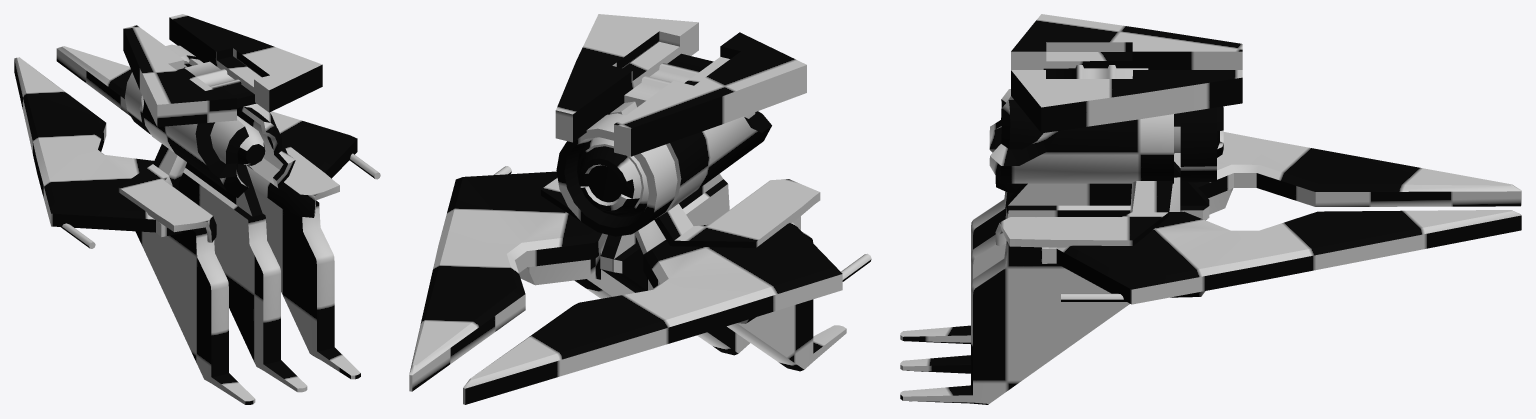
Rendered from pet_hammerclaw.obj.
3 views of the same model, side by side, from view 1: azimuth 30°, elevation 25°; view 2: azimuth 150°, elevation 25°; view 3: azimuth 270°, elevation 25° (orthographic). The views are drawn at different scales.
Parts seen in each view (by area): view 1: ingame_substance; view 2: ingame_substance; view 3: ingame_substance.
Part boxes in pixels (x1=…): ingame_substance: x1=14, y1=14, x2=380, y2=404; ingame_substance: x1=409, y1=14, x2=871, y2=404; ingame_substance: x1=900, y1=14, x2=1521, y2=404.
Bounding box in the file's own units: 72.26 × 60.1 × 109.
Materials: 1 (1 with a texture image).
